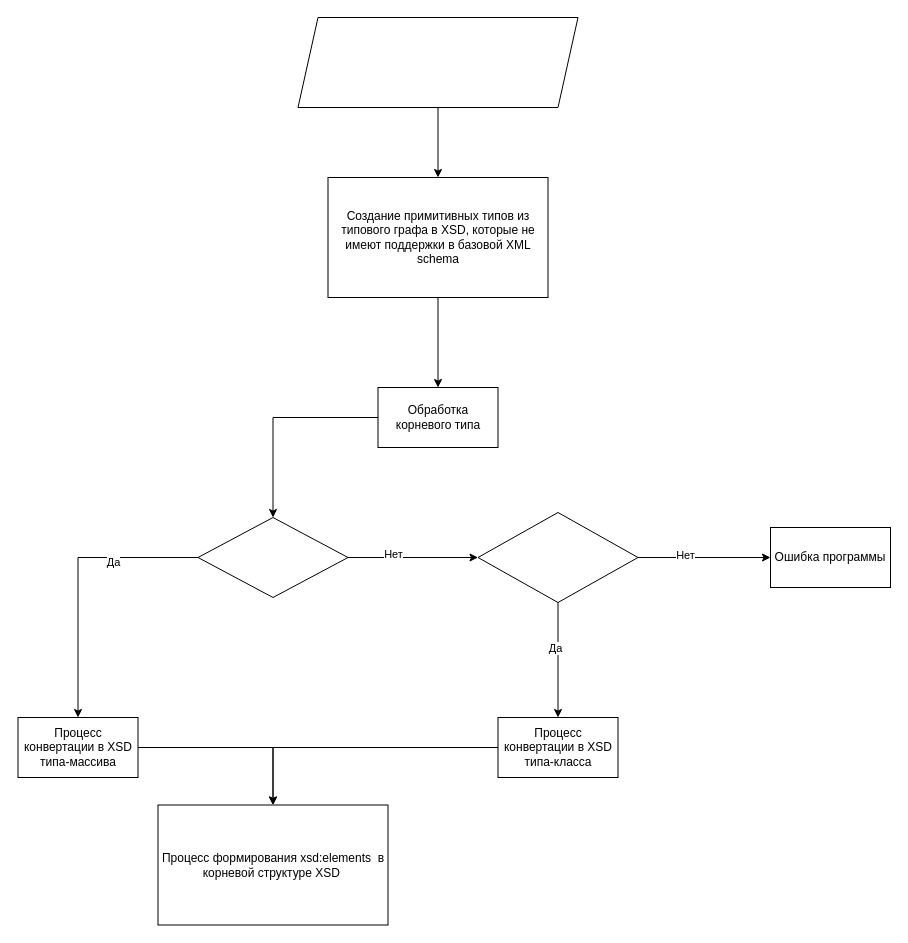
Some shapes in this 908 by 943 pixel diagram are drawn without their labels. Here are the shapes that lost their labels. From the top down, the centre of each, then its label:
At pixel 437 62: "Древовидная структура типов из переменной topLevels".
At pixel 272 557: "тип-массив?".
At pixel 557 557: "тип-класс?".
